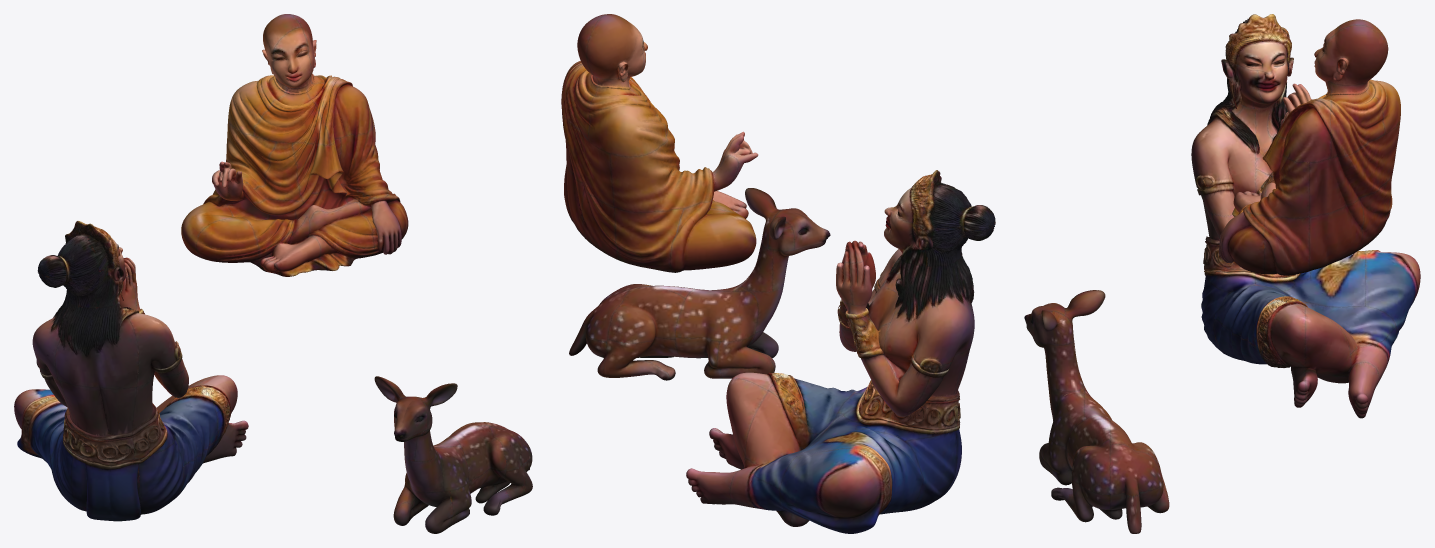
Rendered from Hitem3d-opt.glb.
The picture shows the model from 3 angles, left to right: view 1: azimuth 30°, elevation 25°; view 2: azimuth 150°, elevation 25°; view 3: azimuth 270°, elevation 25°; orthographic projection. The views are drawn at different scales.
Parts seen in each view (by area): view 1: tmp16nk4cx1obj; view 2: tmp16nk4cx1obj; view 3: tmp16nk4cx1obj.
Part boxes in pixels (x1,y1,x2,y2): tmp16nk4cx1obj: (14,14,532,533); tmp16nk4cx1obj: (561,14,995,533); tmp16nk4cx1obj: (1024,14,1420,533).
Bounding box in the file's own units: 1 × 0.9095 × 0.7386.
1 material, 1 textured.
